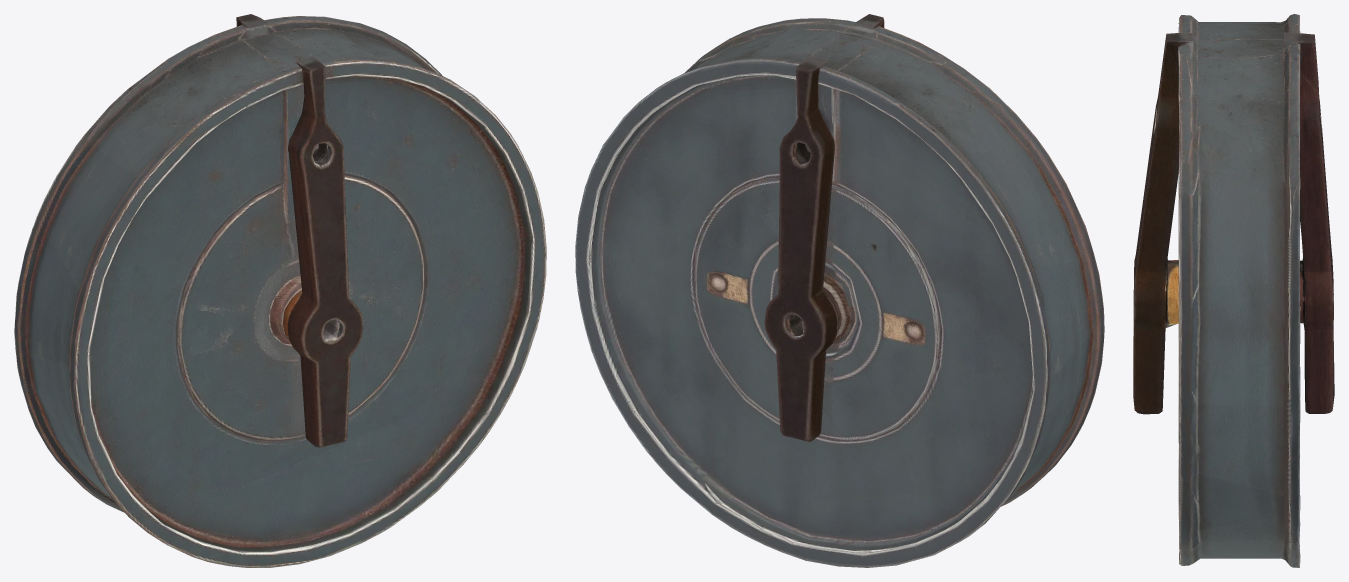
Rendered from mod_endless.glb.
The picture shows the model from 3 angles, left to right: view 1: azimuth 30°, elevation 25°; view 2: azimuth 150°, elevation 25°; view 3: azimuth 270°, elevation 25°; orthographic projection.
Size of the model in its own units: 1.88 by 1.9 by 0.6849.
1 material, 1 textured.
